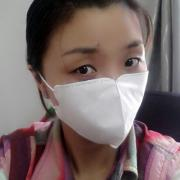OK: (44, 13, 149, 145)
